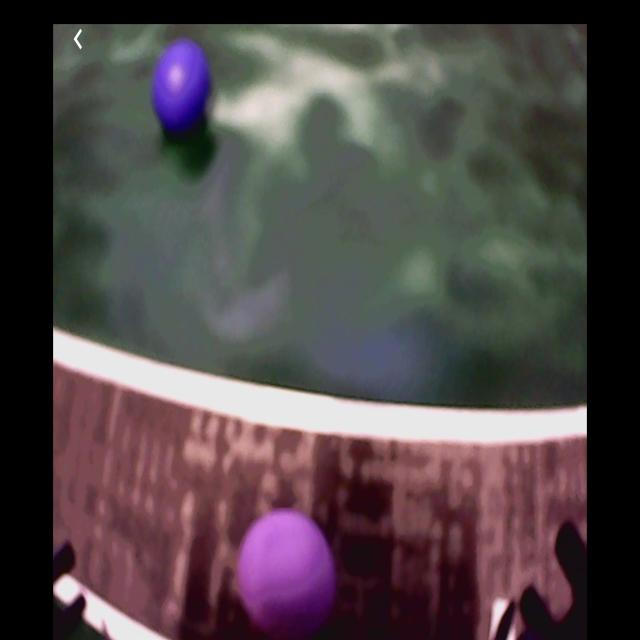ball: (235, 508, 339, 637), (151, 40, 211, 135)
